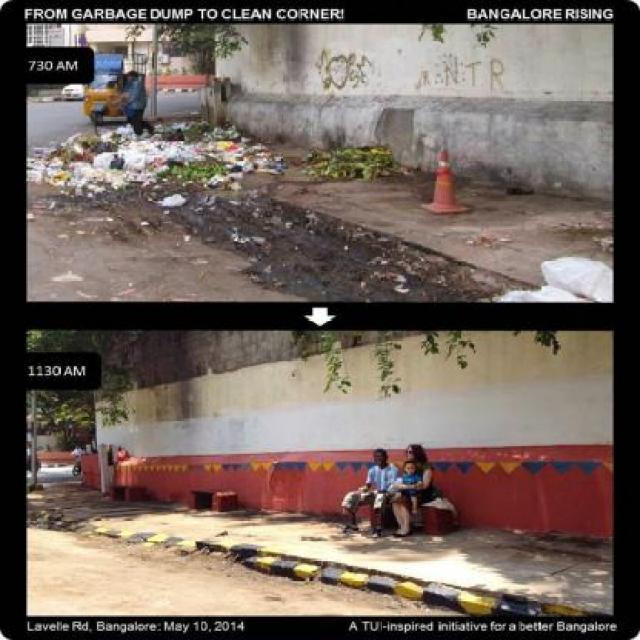garbage: (29, 115, 296, 190), (300, 139, 418, 180), (492, 265, 614, 302)
